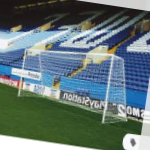goals: (17, 48, 129, 124)
